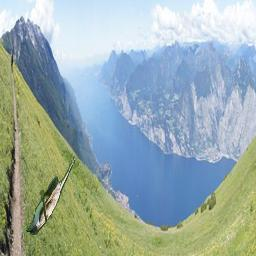Cuckoo: (27, 157, 76, 236)
